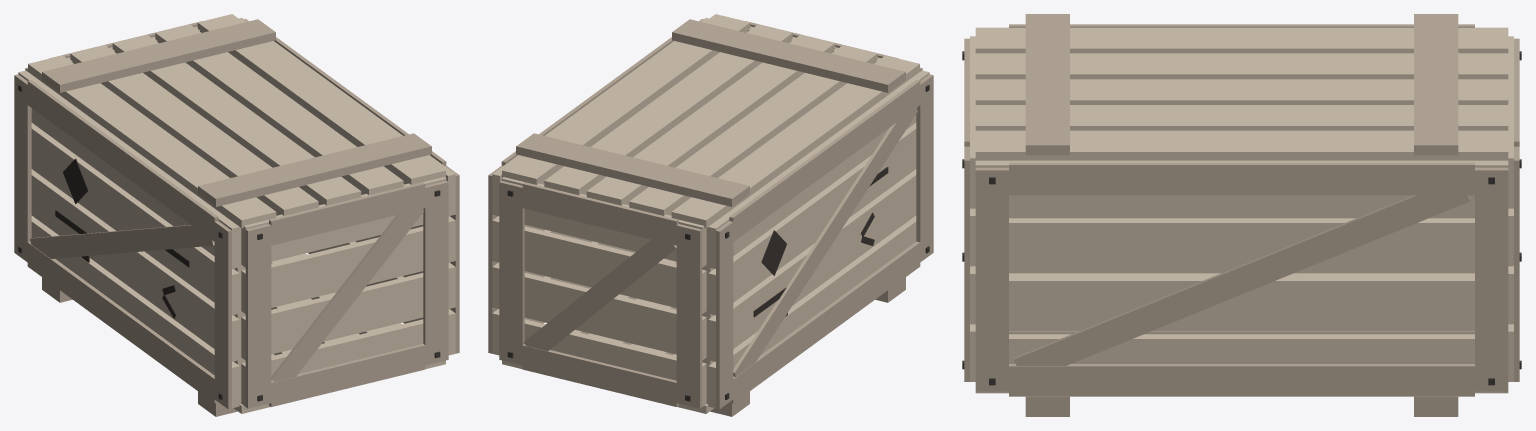
The model's file is supply-crate.glb.
The picture shows the model from 3 angles, left to right: view 1: azimuth 30°, elevation 25°; view 2: azimuth 150°, elevation 25°; view 3: azimuth 270°, elevation 25°; orthographic projection. The views are drawn at different scales.
Visible parts, largest first — view 1: Mesh_SlatSide_L_1, Mesh_SlatTop_4, Mesh_SlatTop_2, Mesh_SlatTop_1, Mesh_SlatTop_0, Mesh_SlatTop_3, Mesh_SlatSide_L_2, Mesh_SlatEnd_F_2, Mesh_TopRail_L, Mesh_TopRail_R, Mesh_SlatEnd_F_1, Mesh_BattenHorizZ_L_Top (+21 smaller); view 2: Mesh_SlatTop_4, Mesh_SlatSide_L_1, Mesh_SlatTop_2, Mesh_SlatTop_1, Mesh_SlatTop_0, Mesh_SlatTop_3, Mesh_SlatSide_L_2, Mesh_SlatEnd_B_2, Mesh_SlatEnd_B_1, Mesh_TopRail_L, Mesh_TopRail_R, Mesh_BattenHorizZ_L_Top (+22 smaller); view 3: Mesh_SlatSide_R_1, Mesh_SlatSide_R_2, Mesh_BattenHorizZ_R_Top, Mesh_BattenHorizZ_R_Bot, Mesh_SlatTop_0, Mesh_BattenDiagZ_R, Mesh_SlatTop_3, Mesh_SlatTop_4, Mesh_SlatSide_R_0, Mesh_SlatTop_1, Mesh_SlatTop_2, Mesh_SlatSide_R_3 (+16 smaller).
Part boxes in pixels (box(x1,y1,x2,y2)): Mesh_SlatSide_L_1: box(31, 169, 239, 361); Mesh_SlatTop_4: box(28, 55, 276, 228); Mesh_SlatTop_2: box(112, 34, 361, 205); Mesh_SlatTop_1: box(155, 24, 403, 195); Mesh_SlatTop_0: box(197, 14, 445, 184); Mesh_SlatTop_3: box(70, 45, 318, 215); Mesh_SlatSide_L_2: box(31, 123, 239, 315); Mesh_SlatEnd_F_2: box(241, 226, 423, 313); Mesh_TopRail_L: box(42, 19, 275, 92); Mesh_TopRail_R: box(198, 133, 431, 206); Mesh_SlatEnd_F_1: box(241, 273, 423, 360); Mesh_BattenHorizZ_L_Top: box(27, 80, 218, 241); Mesh_SlatTop_4: box(671, 55, 919, 228); Mesh_SlatSide_L_1: box(708, 169, 916, 361); Mesh_SlatTop_2: box(586, 34, 835, 205); Mesh_SlatTop_1: box(544, 24, 792, 195); Mesh_SlatTop_0: box(502, 14, 750, 184); Mesh_SlatTop_3: box(629, 45, 877, 215); Mesh_SlatSide_L_2: box(708, 123, 916, 315); Mesh_SlatEnd_B_2: box(524, 226, 706, 313); Mesh_SlatEnd_B_1: box(524, 273, 706, 360); Mesh_TopRail_L: box(516, 133, 749, 206); Mesh_TopRail_R: box(672, 19, 905, 92); Mesh_BattenHorizZ_L_Top: box(729, 80, 920, 241); Mesh_SlatSide_R_1: box(1009, 276, 1474, 331); Mesh_SlatSide_R_2: box(1009, 218, 1474, 273); Mesh_BattenHorizZ_R_Top: box(1009, 162, 1474, 195); Mesh_BattenHorizZ_R_Bot: box(1009, 364, 1474, 396); Mesh_SlatTop_0: box(975, 130, 1508, 160); Mesh_BattenDiagZ_R: box(1013, 195, 1470, 365); Mesh_SlatTop_3: box(975, 53, 1508, 79); Mesh_SlatTop_4: box(975, 27, 1508, 53); Mesh_SlatSide_R_0: box(1009, 334, 1474, 363); Mesh_SlatTop_1: box(975, 105, 1508, 130); Mesh_SlatTop_2: box(975, 79, 1508, 104); Mesh_SlatSide_R_3: box(975, 160, 1508, 215).
Bounding box in the file's own units: 0.608 × 0.54 × 1.01.
